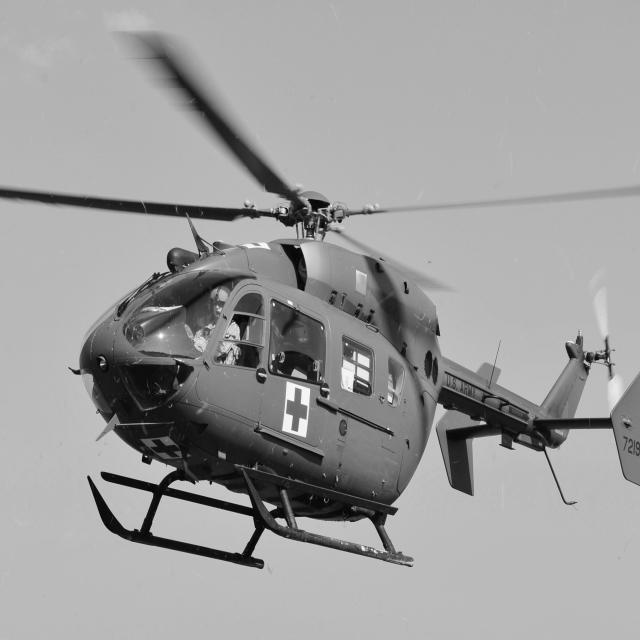helicopter: (1, 34, 640, 573)
